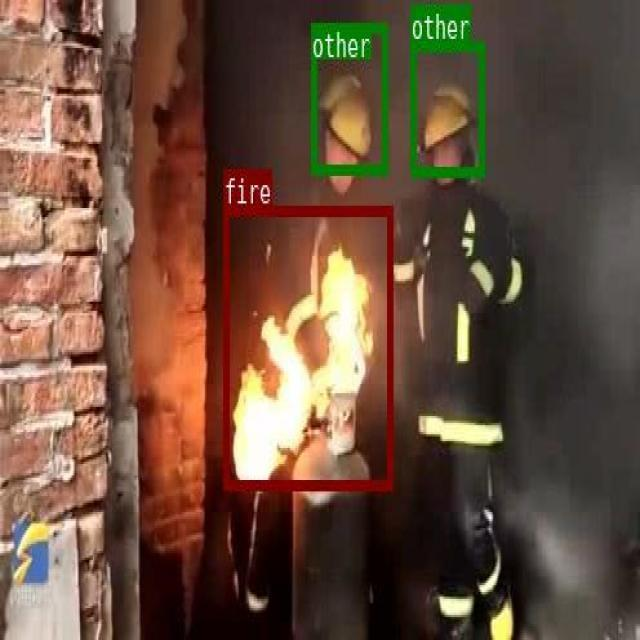fire: (222, 204, 392, 488)
